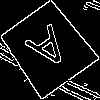A: (23, 23, 79, 81)
